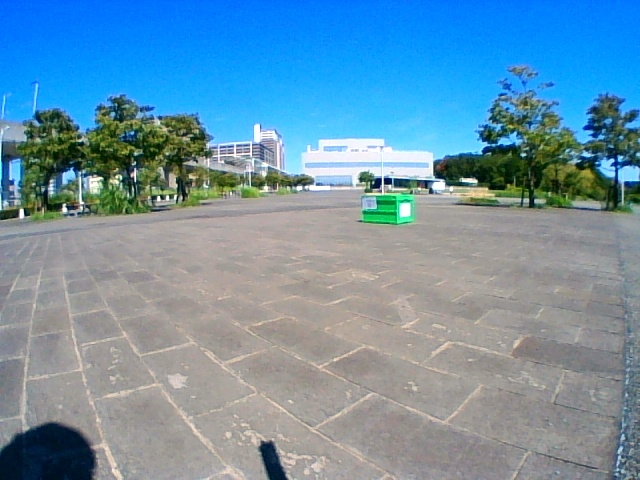green_box: (361, 193, 413, 223)
tag: (364, 198, 375, 209)
